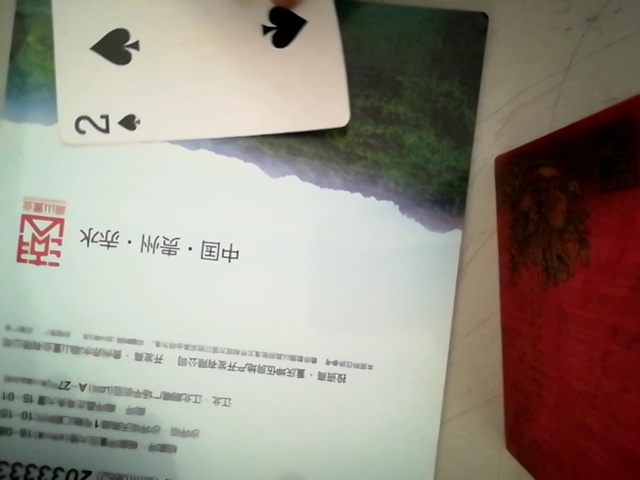ht 2: (42, 0, 356, 147)
